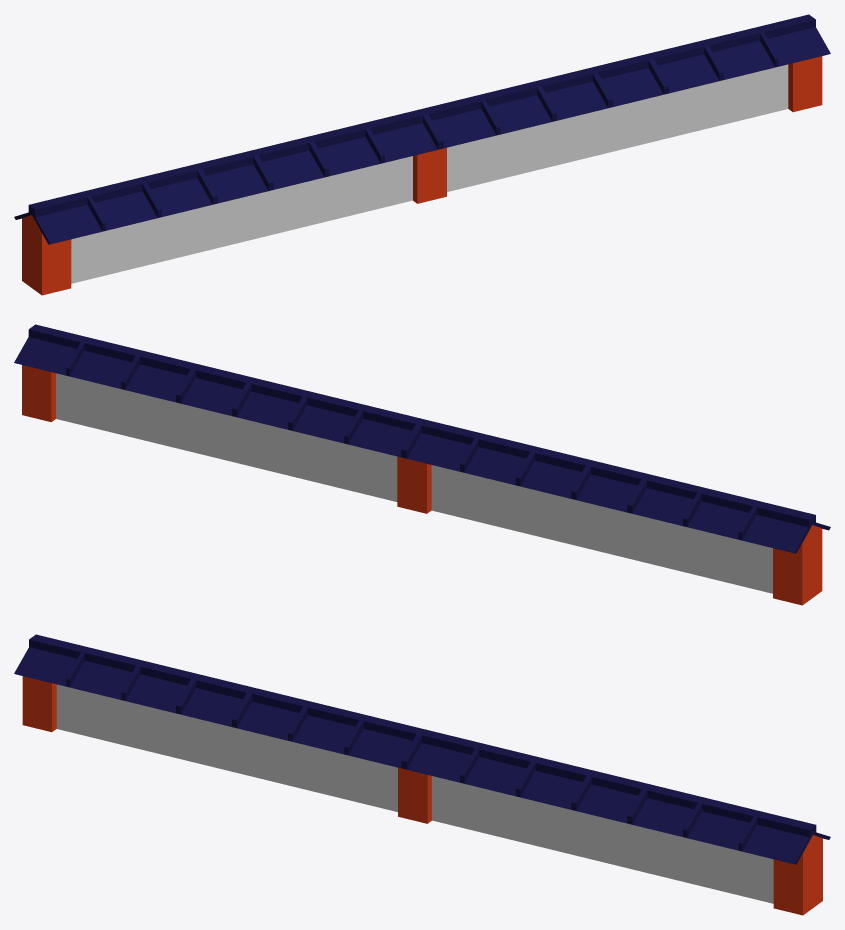
File: Wall-Long.fbx
3 views of the same model, one above another, from view 1: azimuth 30°, elevation 25°; view 2: azimuth 150°, elevation 25°; view 3: azimuth 330°, elevation 25° (orthographic).
Parts seen in each view (by area): view 1: Wall Long; view 2: Wall Long; view 3: Wall Long.
Boxes of the visible parts, x1,y1,x2,y2 form: Wall Long: (14,14,830,295); Wall Long: (14,324,830,605); Wall Long: (14,634,830,915).
Size of the model in its own units: 2000 by 198 by 162.
